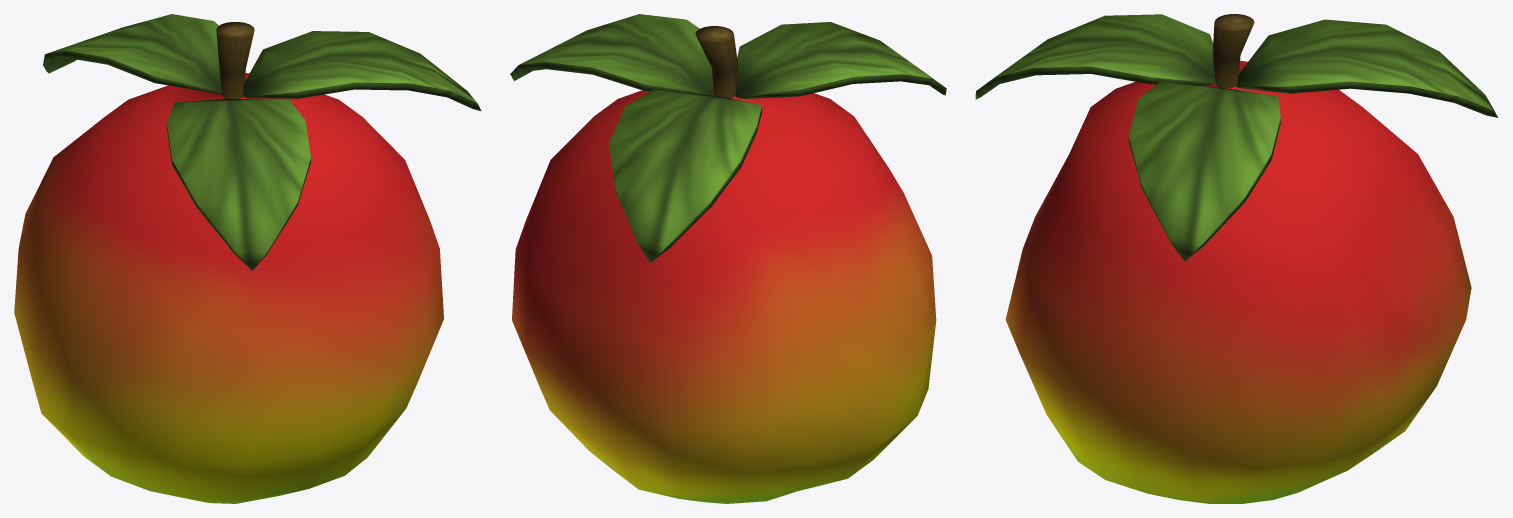
File: wumpa.fbx
3 renders of one model, left to right at view 1: azimuth 30°, elevation 25°; view 2: azimuth 150°, elevation 25°; view 3: azimuth 270°, elevation 25°, orthographic. The views are drawn at different scales.
Visible parts, largest first — view 1: Fruit; view 2: Fruit; view 3: Fruit.
Part boxes in pixels (<box>): Fruit: <box>14,14,481,503</box>; Fruit: <box>510,14,946,503</box>; Fruit: <box>975,14,1498,503</box>.
Bounding box in the file's own units: 35.35 × 37.12 × 37.29.
